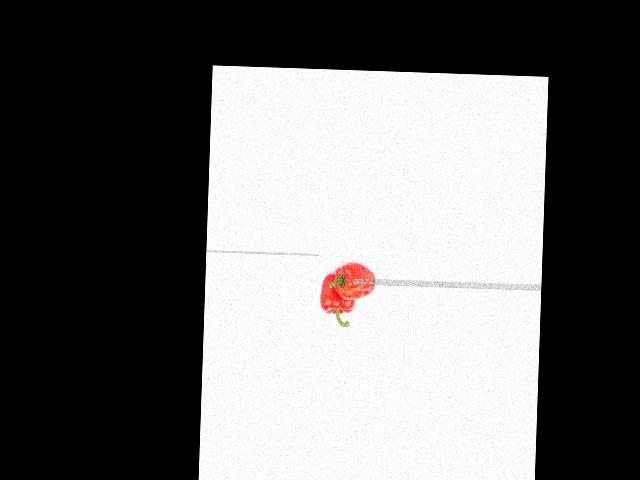bell_pepper: (330, 263, 381, 304)
